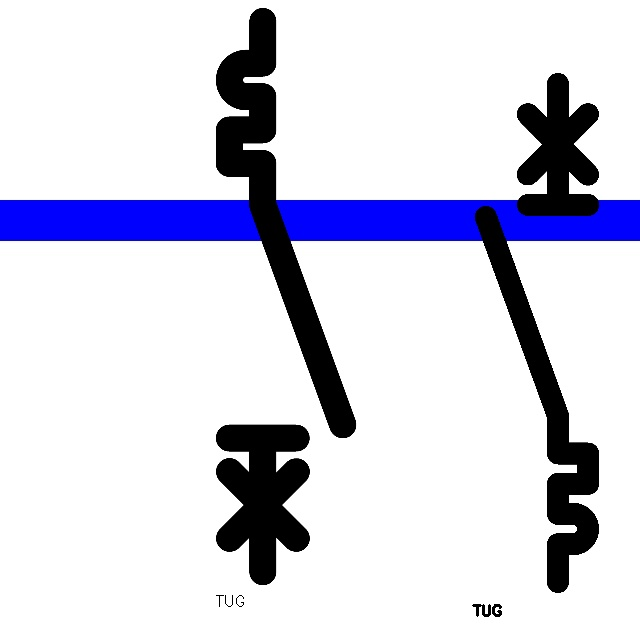interruptor_termomagnetico: (215, 7, 356, 586), (473, 71, 601, 595)
